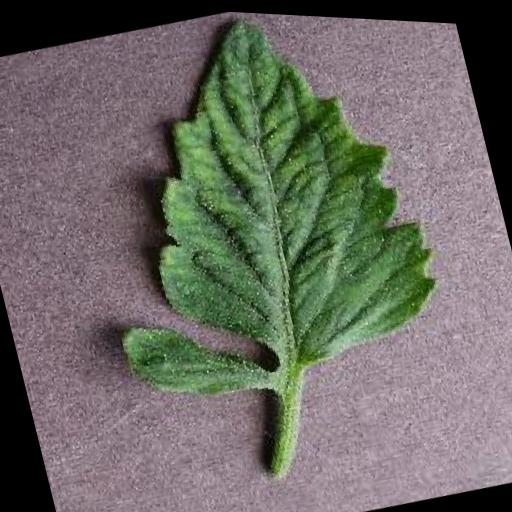Mosaic Virus: (99, 4, 450, 395)
